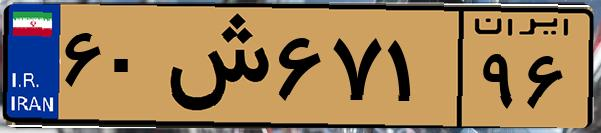0: (110, 28, 158, 98)
1: (385, 28, 445, 110)
6: (270, 28, 330, 110), (57, 26, 110, 100), (525, 38, 570, 115)
7: (330, 28, 385, 110)
9: (475, 38, 525, 113)
ش: (158, 12, 270, 120)
